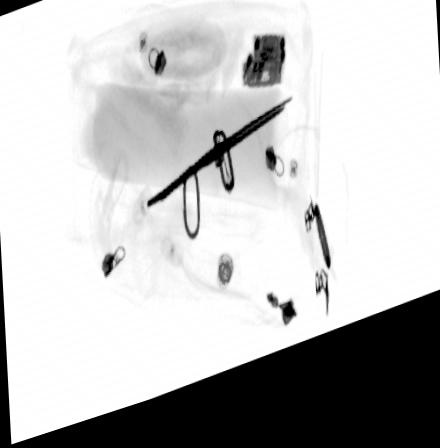Scissors: (145, 115, 292, 219)
